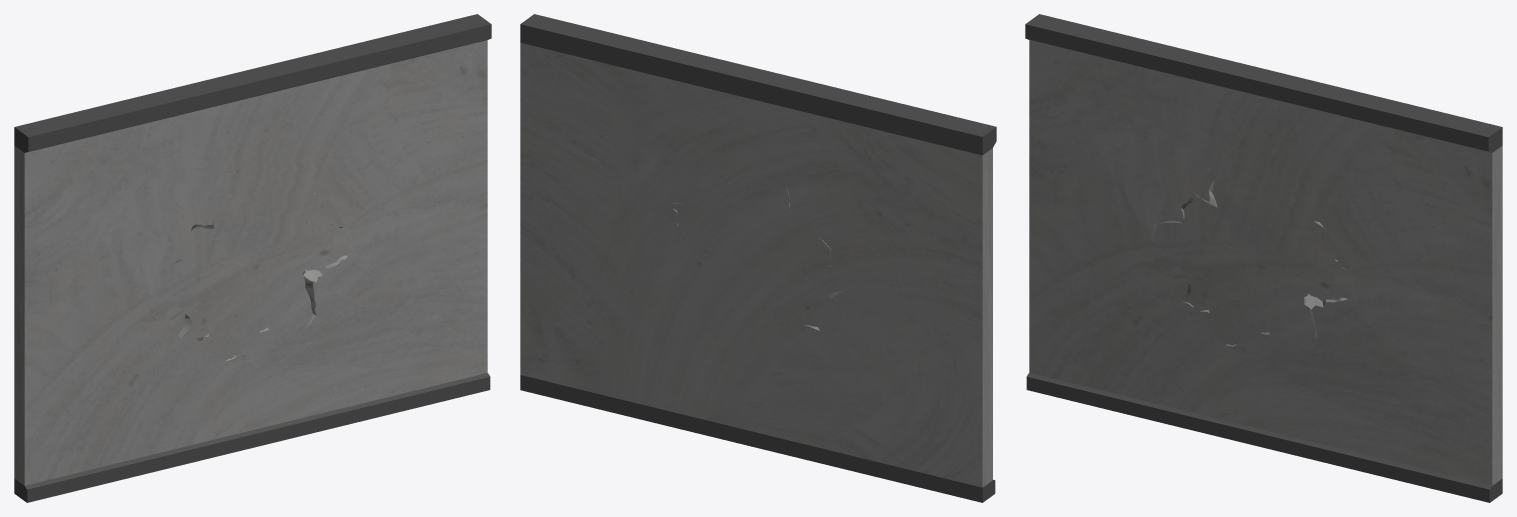
File: cracked-wall.fbx
3 views of the same model, side by side, from view 1: azimuth 30°, elevation 25°; view 2: azimuth 150°, elevation 25°; view 3: azimuth 330°, elevation 25° (orthographic).
Visible parts, largest first — view 1: cracked-wall; view 2: cracked-wall; view 3: cracked-wall.
Boxes of the visible parts, x1=… form: cracked-wall: x1=14, y1=14, x2=491, y2=502; cracked-wall: x1=520, y1=14, x2=996, y2=502; cracked-wall: x1=1025, y1=14, x2=1502, y2=502.
Bounding box in the file's own units: 915 × 692 × 68.03.
Materials: 2 (1 with a texture image).
